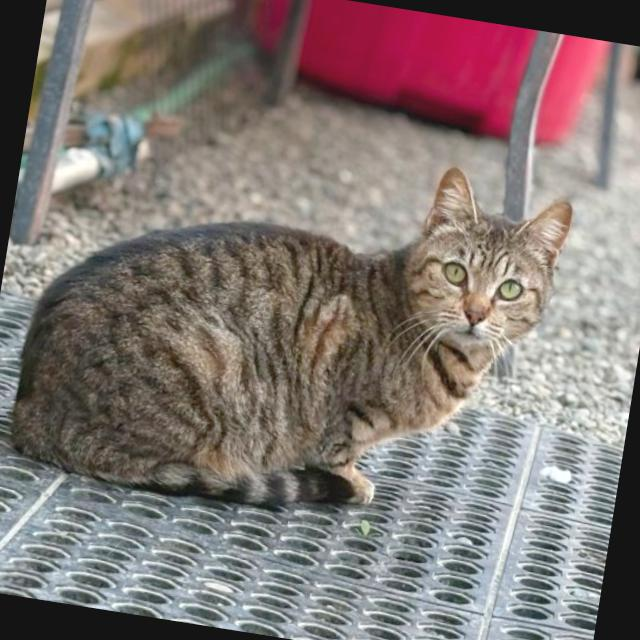american_shorthair_cat: (387, 158, 583, 376)
